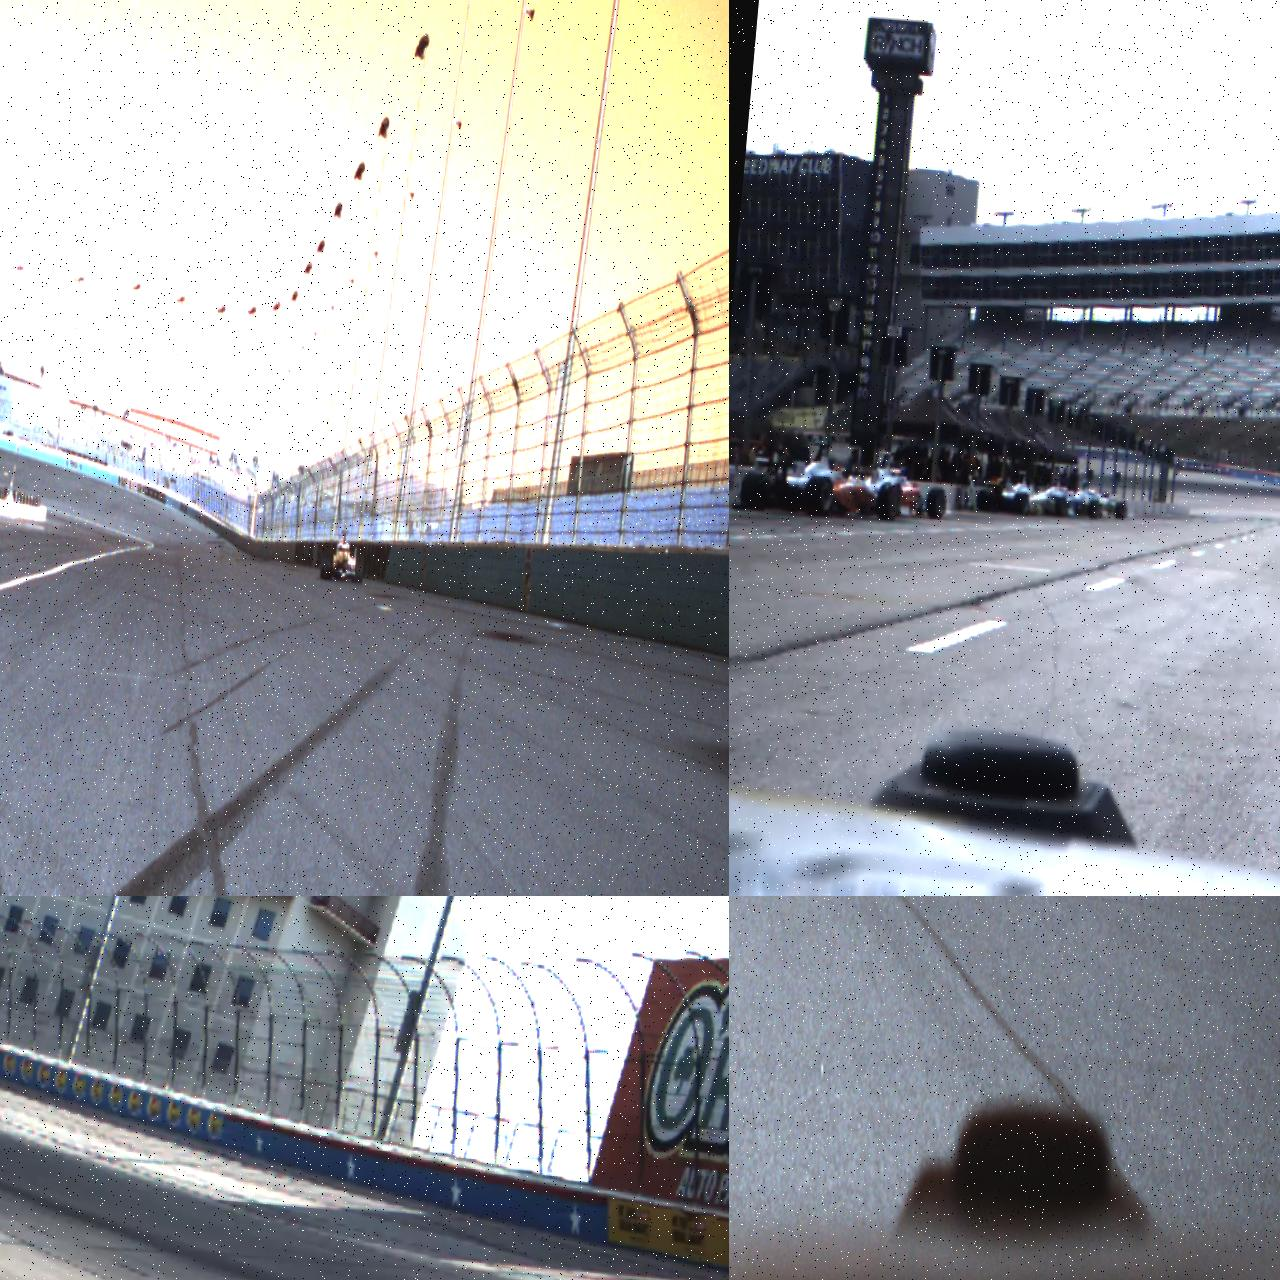AV: (740, 430, 906, 524), (975, 468, 1070, 520), (320, 529, 367, 584)
Wheel: (803, 476, 833, 517), (740, 471, 770, 511), (876, 482, 903, 523), (926, 486, 947, 520), (1012, 492, 1030, 515), (354, 553, 365, 584), (1054, 497, 1069, 517), (324, 553, 334, 581), (975, 490, 989, 511), (1088, 501, 1102, 520), (1115, 501, 1128, 520), (320, 556, 327, 579)
